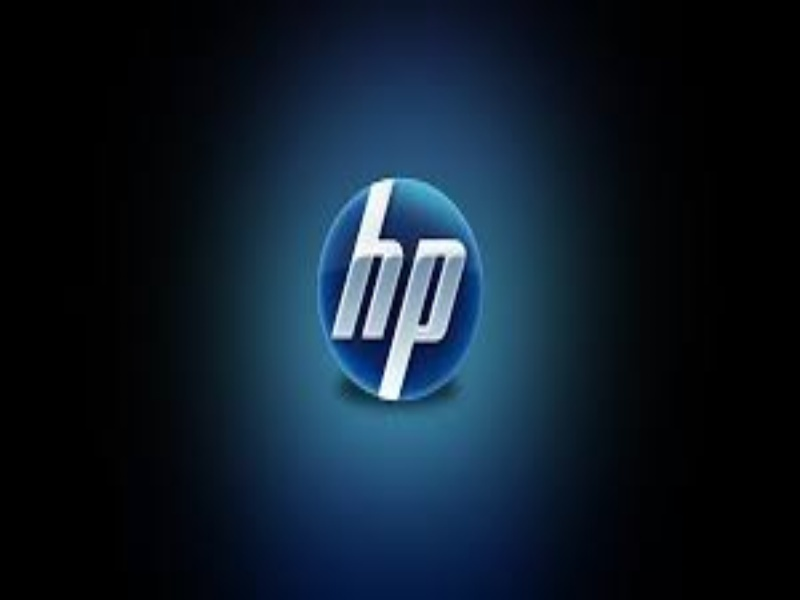hp: (332, 173, 461, 401)
